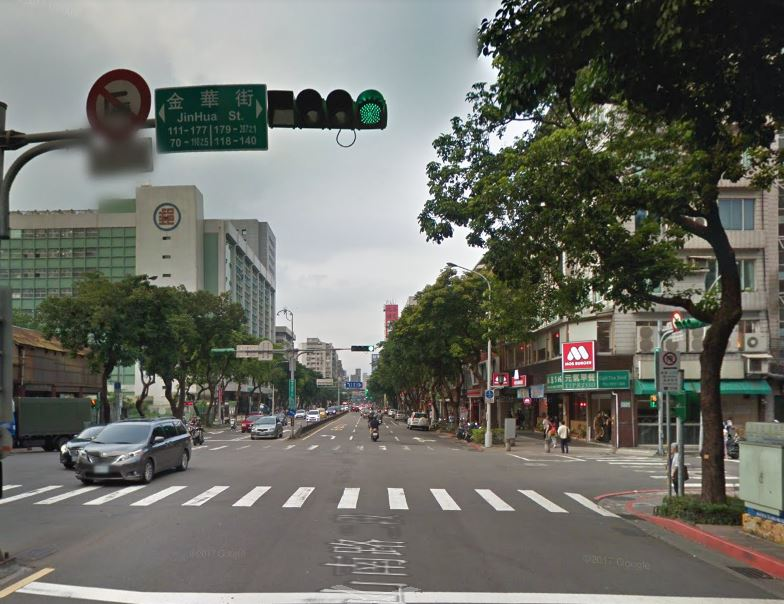Traffic_light_green: (270, 87, 388, 134)
car: (75, 414, 195, 486)
